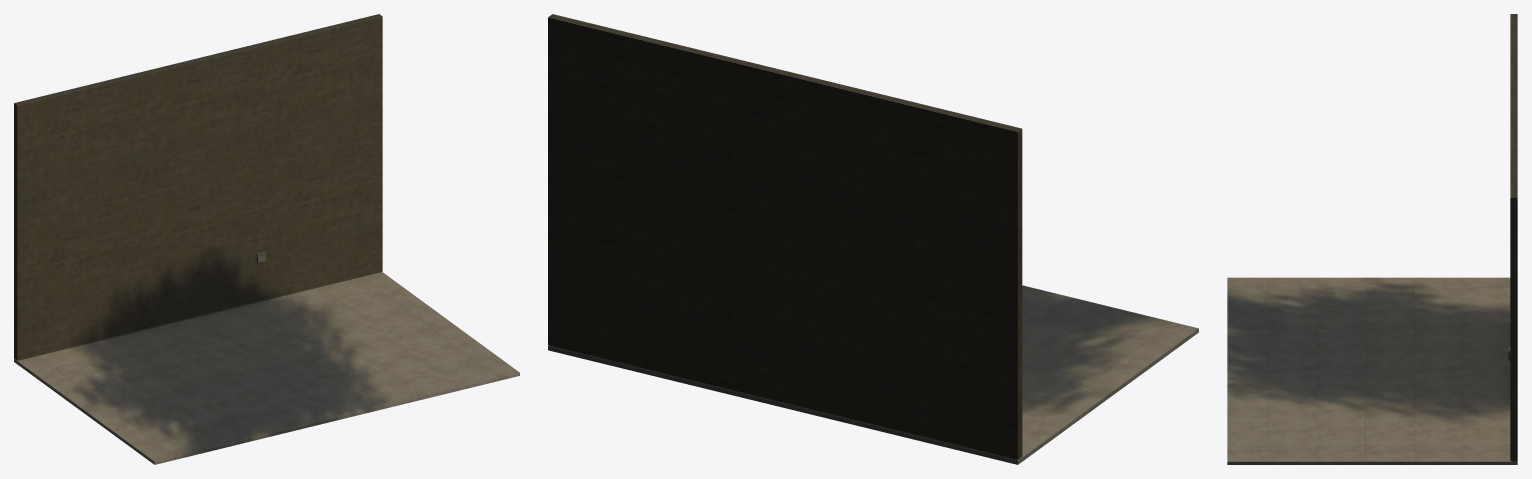
File: Prova_export_5_giorno.glb
3 renders of one model, left to right at view 1: azimuth 30°, elevation 25°; view 2: azimuth 150°, elevation 25°; view 3: azimuth 270°, elevation 25°, orthographic. The views are drawn at different scales.
Parts seen in each view (by area): view 1: Muro, Pavimento; view 2: Muro, Pavimento; view 3: Pavimento, Muro.
Part boxes in pixels (bbox=[...]): Muro: bbox=[14, 14, 382, 360]; Pavimento: bbox=[14, 272, 519, 464]; Muro: bbox=[548, 14, 1022, 459]; Pavimento: bbox=[548, 285, 1198, 464]; Pavimento: bbox=[1227, 277, 1517, 464]; Muro: bbox=[1510, 14, 1517, 460].
Bounding box in the file's own units: 5.99 × 4.06 × 4.
Materials: 4 (4 with a texture image).
